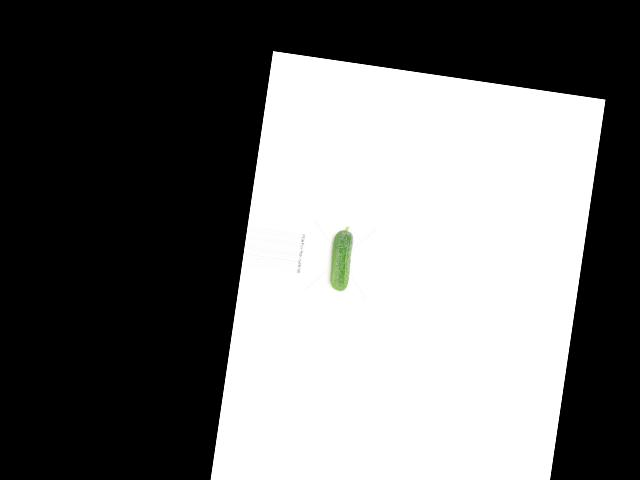cucumber: (326, 224, 355, 293)
